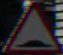Speed Breaker ahead: (11, 7, 53, 47)
